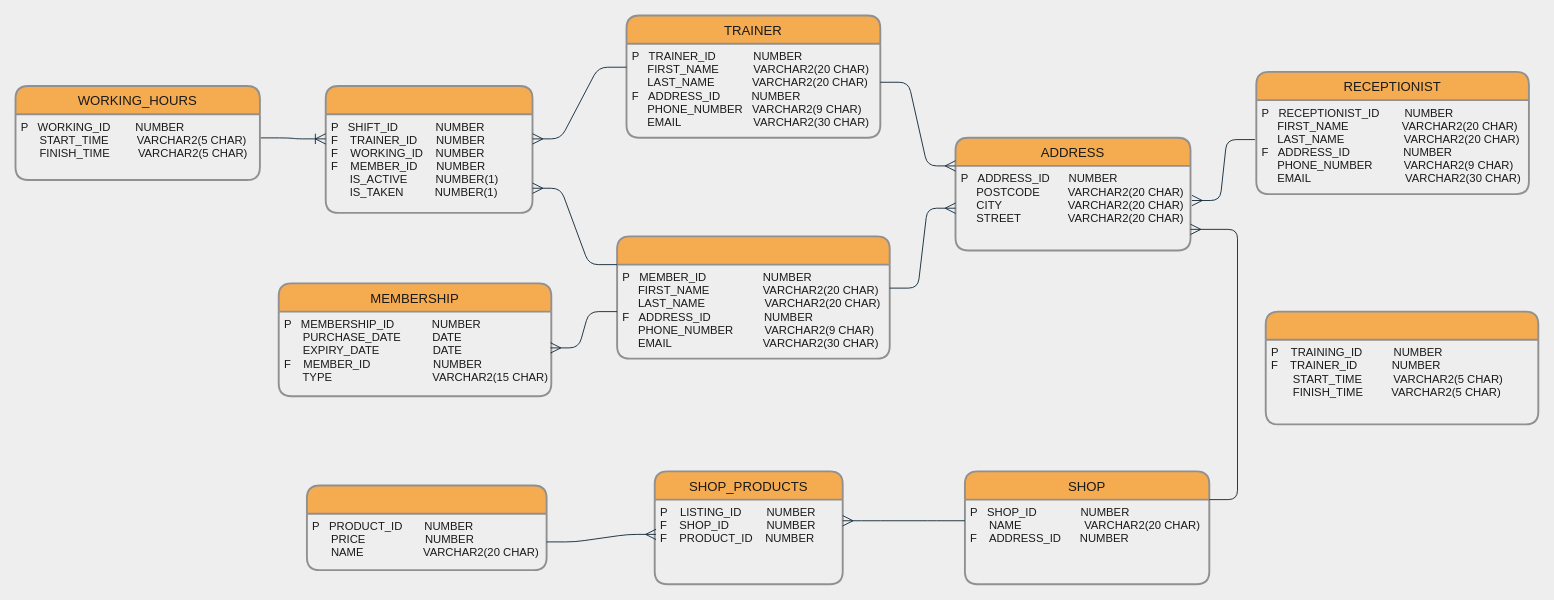
This 1554x600 diagram has some shape labels left out. Here are the shapes that lost their labels. From the top down, the box of each, then its label:
(324, 85, 533, 213): TRAINER_HOURS
(616, 235, 890, 359): GYM_MEMBER
(1264, 310, 1539, 425): GROUP_TRAINING
(306, 484, 547, 571): PRODUCTS
